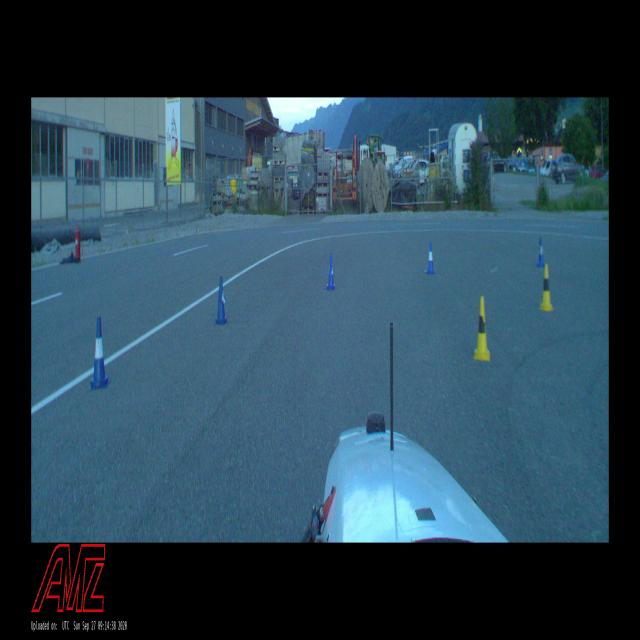blue_cone: (90, 316, 109, 389), (214, 276, 229, 325), (326, 253, 336, 291), (426, 242, 435, 274), (536, 238, 544, 267)
yellow_cone: (473, 296, 491, 361), (540, 264, 554, 310)
